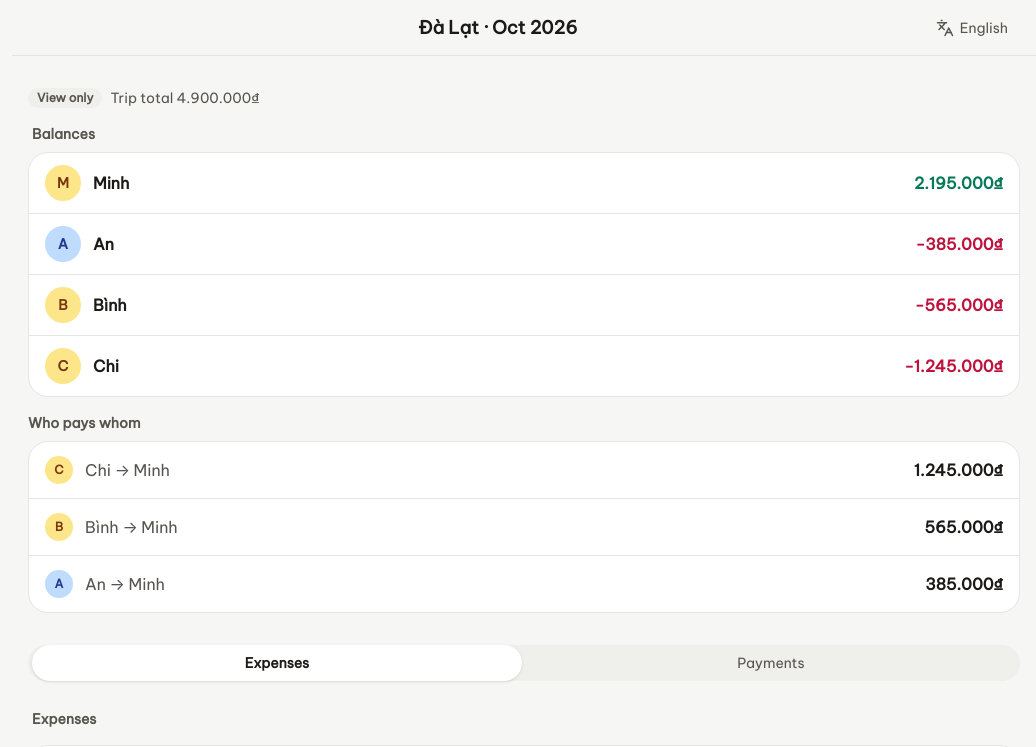
Test: view-only page › on a phone shows everyone's balances and who pays whom first, then tabs for expenses and payments, read-only
expect the text "Minh" is shown: met, box [93,171,129,195]
expect the text "2.195.000₫" is shown: met, box [914,171,1003,195]
Click the tab "Payments": (771, 663) [526,645,1016,681]
(page scrolled)
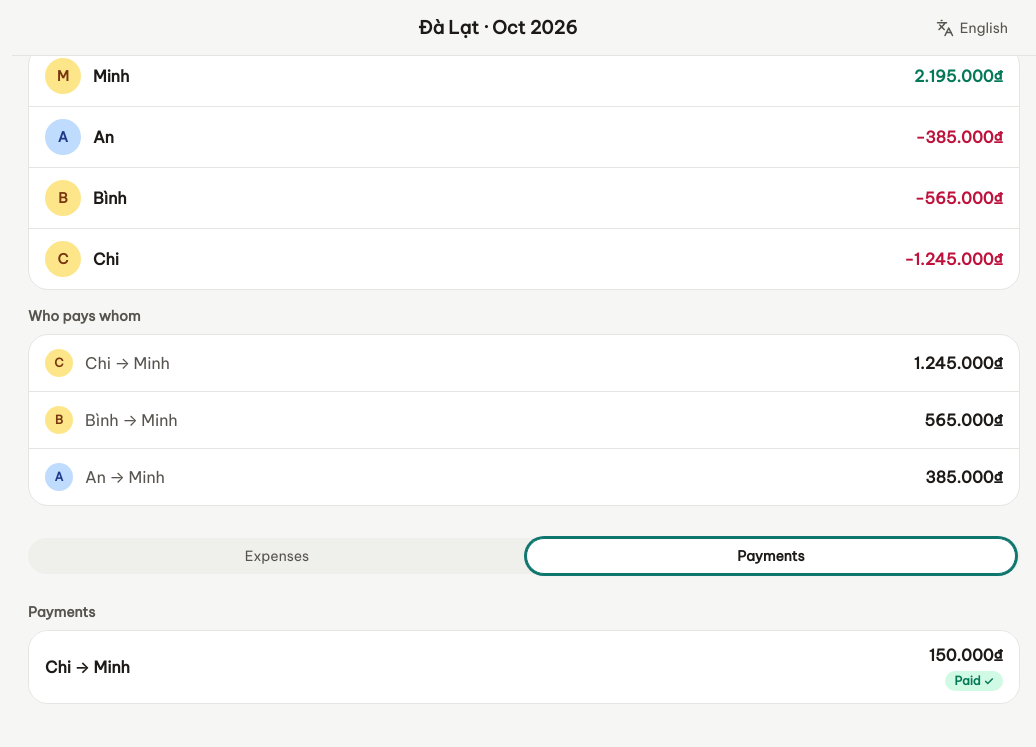
expect the element "Payments" is shown: met, box [28,602,1020,704]
